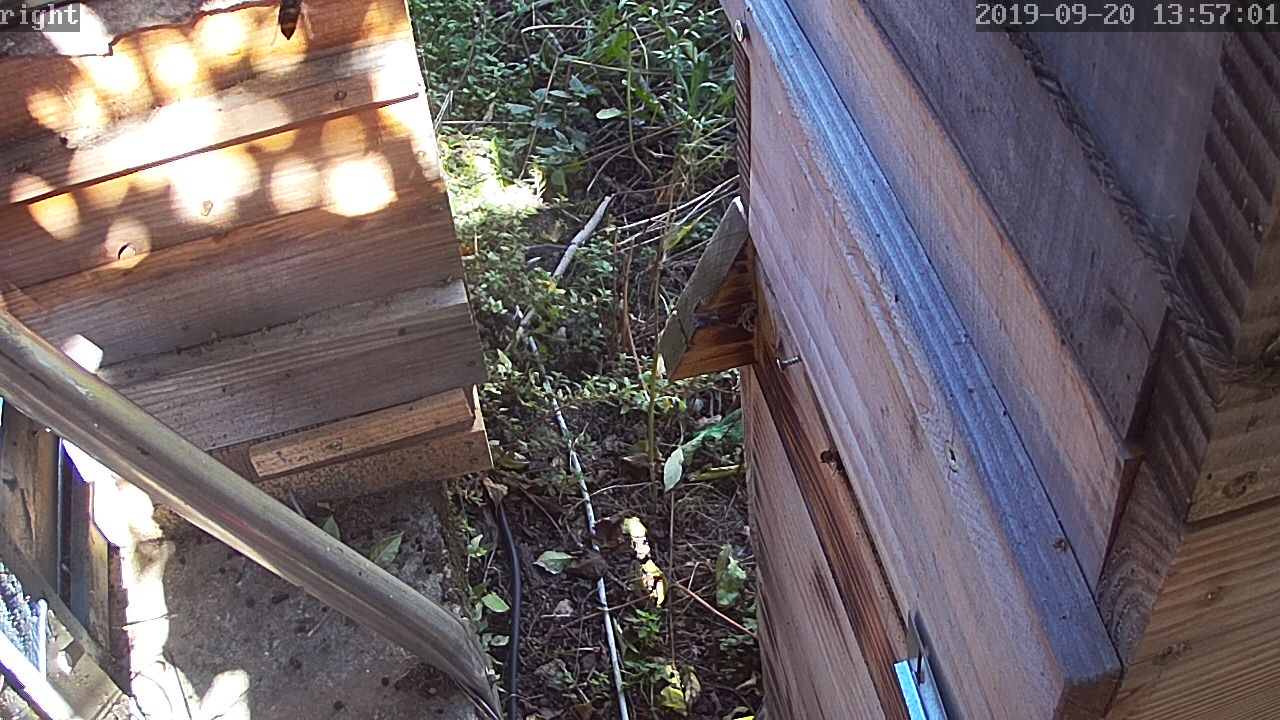bee: (816, 444, 845, 476)
hornet: (260, 1, 321, 51)
